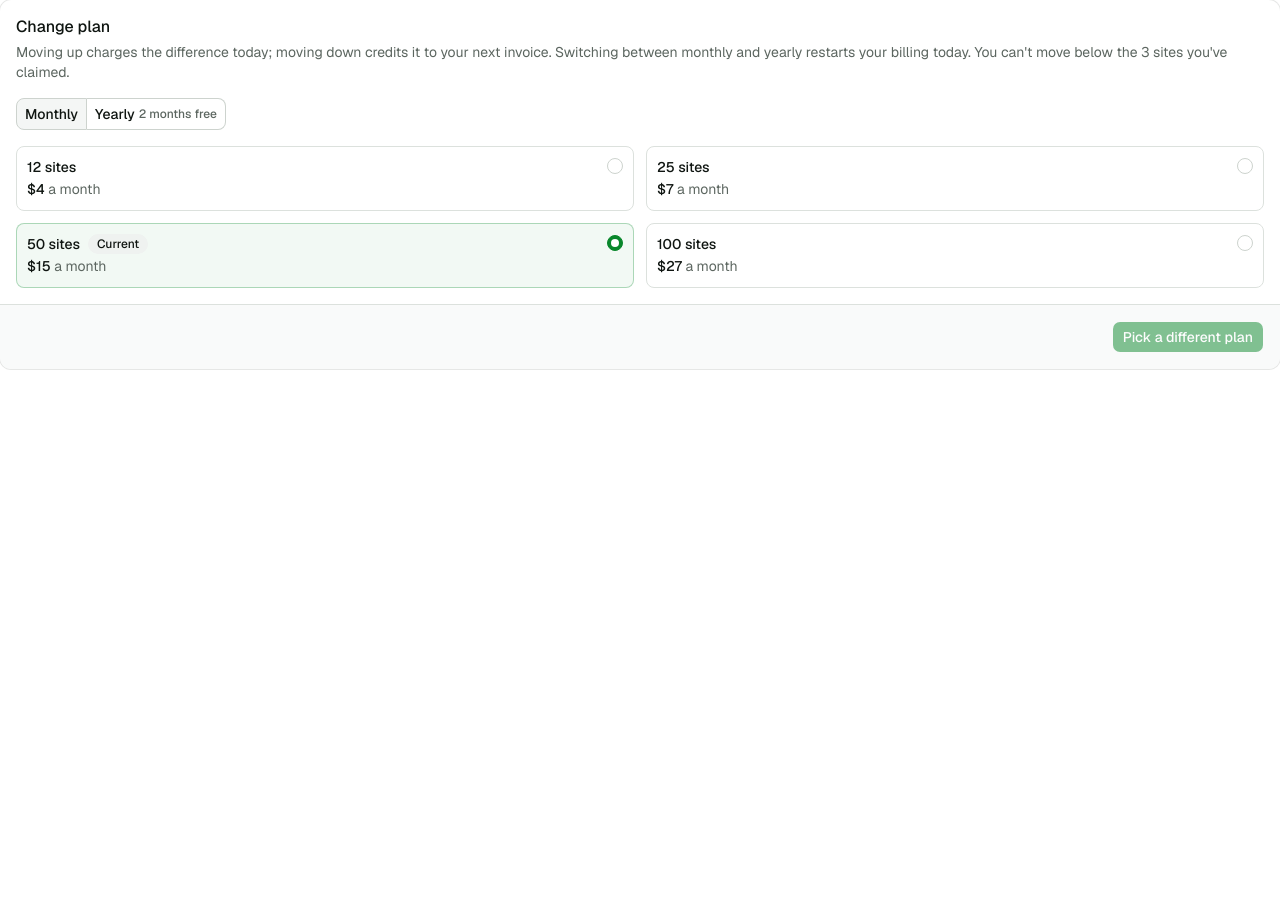
Test: PlanChooser, a live plan › says a downgrade is credited to the next invoice
The image size is (1280, 900).
Click the radio button in the row of "12" at (615, 166), box [607,158,623,174]
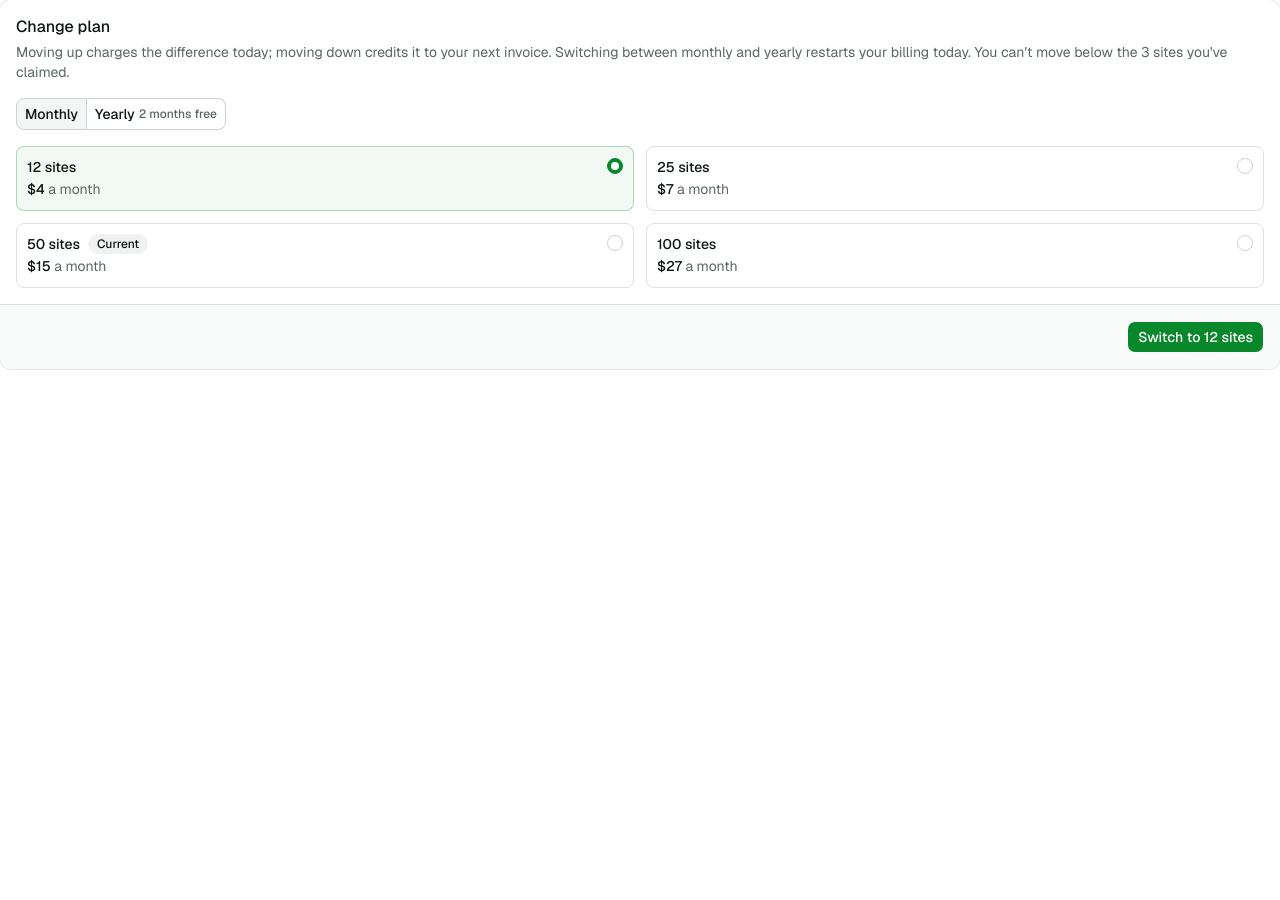
Click the button "Switch to 12 sites" at (1196, 337), box [1127,321,1264,353]
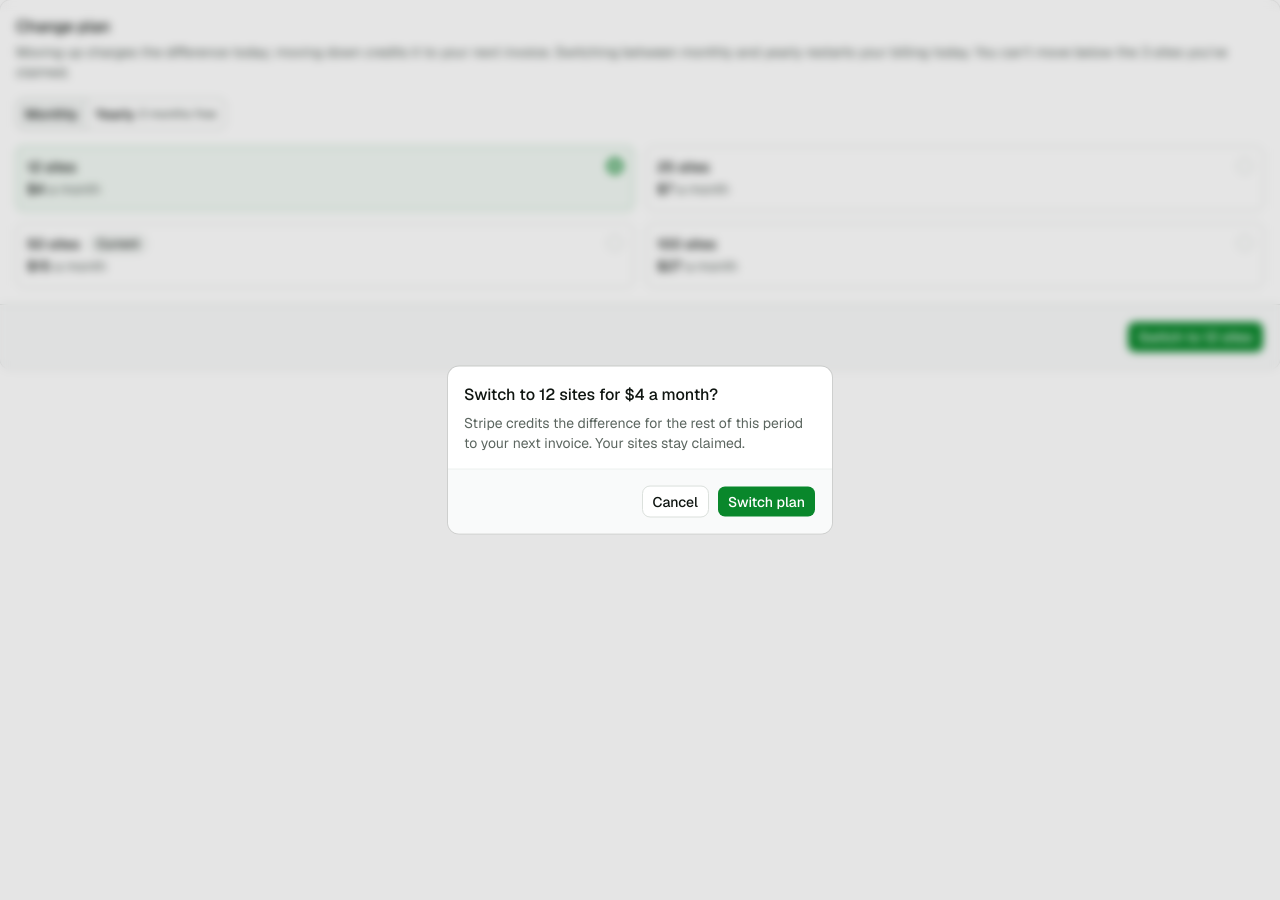
Result: the text "credits the difference" is shown at [464,414,803,452]
Click the button "Cancel" at (675, 502), box [642,486,709,518]
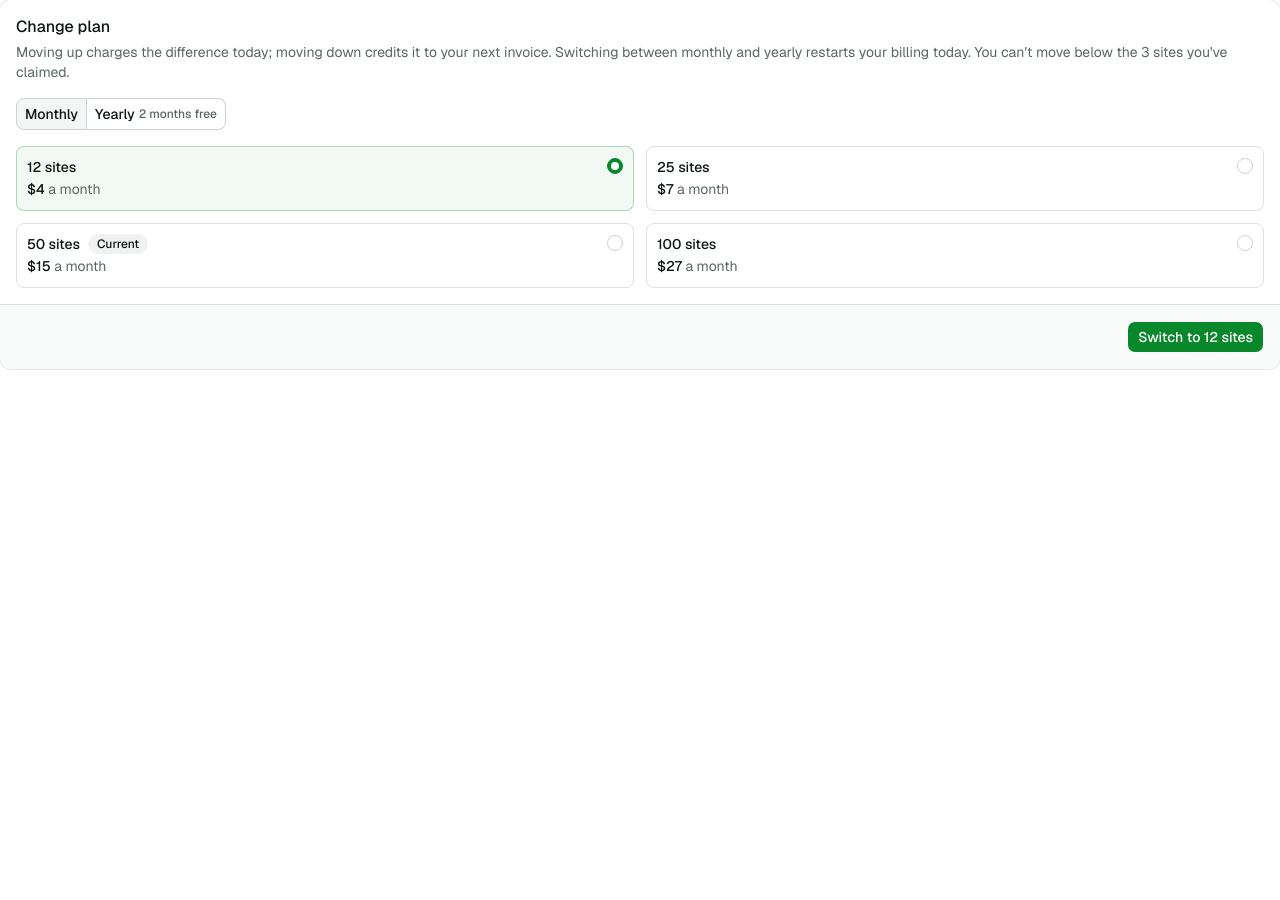
Result: the dialog is gone
